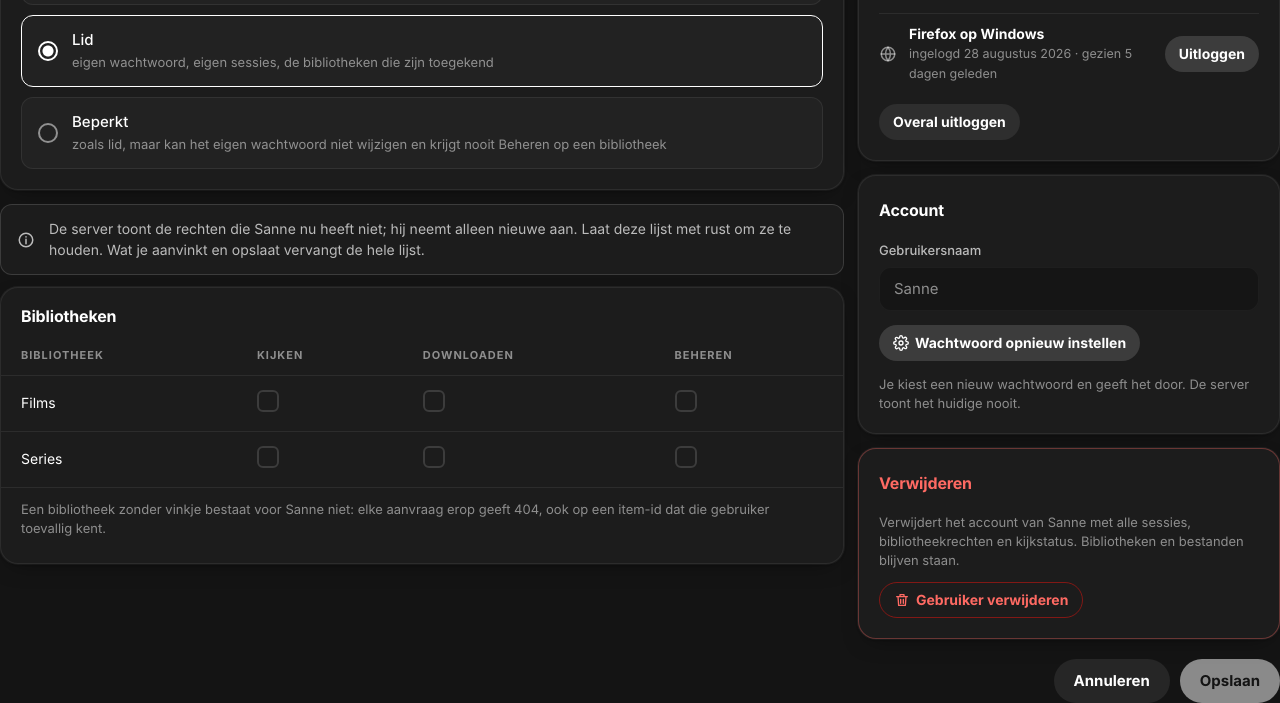
verwijderen › toont de weigering van de server en blijft op de pagina
(page scrolled)
Click the button "Gebruiker verwijderen". click: coordinates (981, 600)
box: 879,582 -> 1083,618
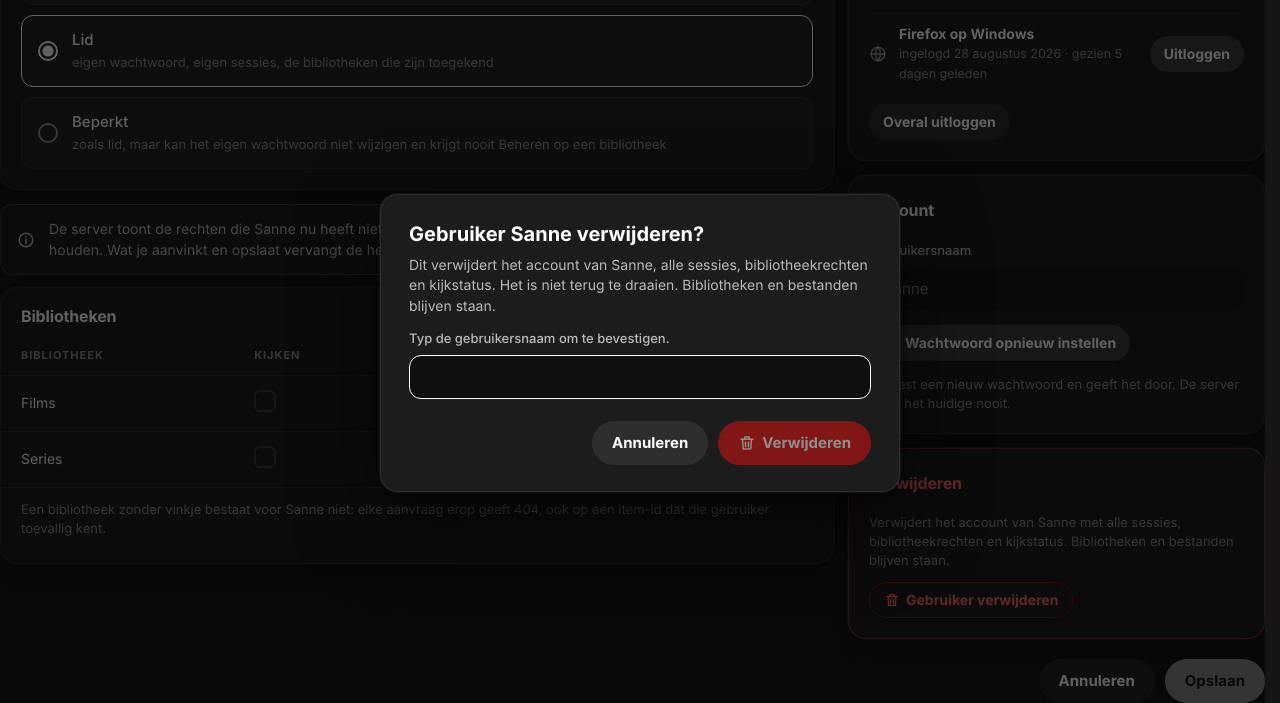
Type "Sanne" into the field. click: coordinates (640, 377)
box: 409,355 -> 871,399
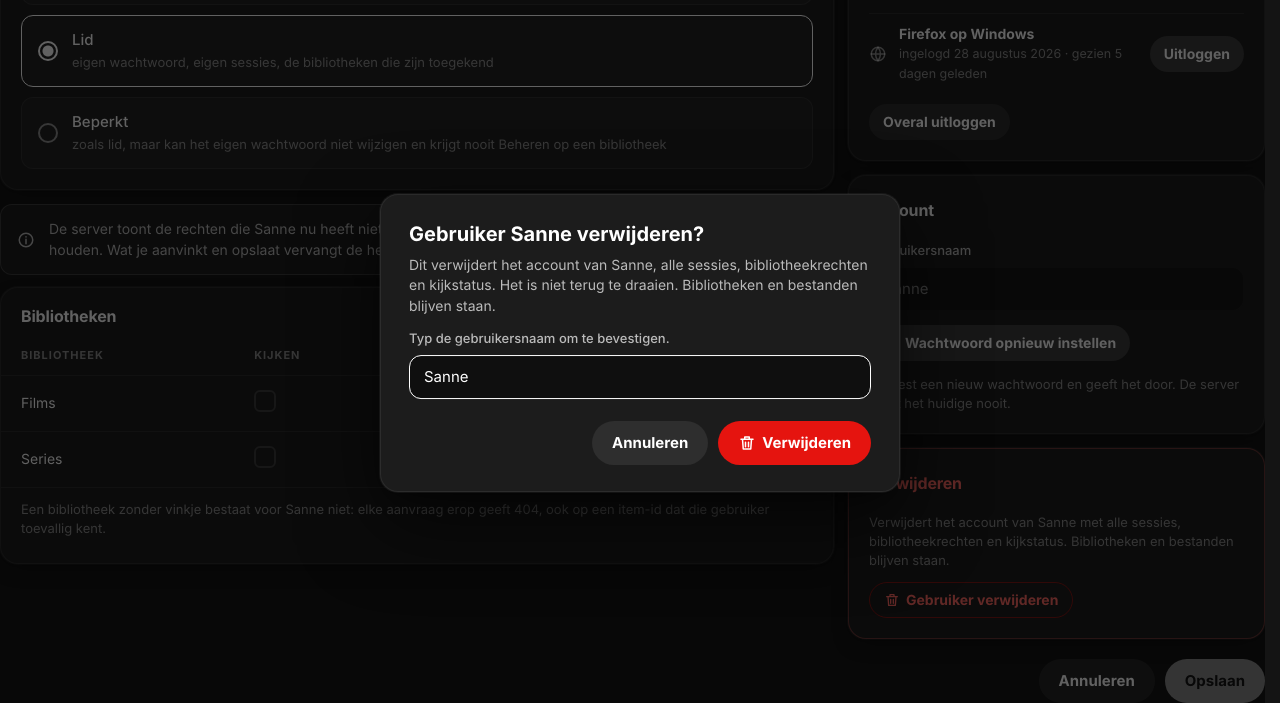
Click the button "Verwijderen". click: coordinates (795, 443)
box: 718,421 -> 871,465
(page scrolled)
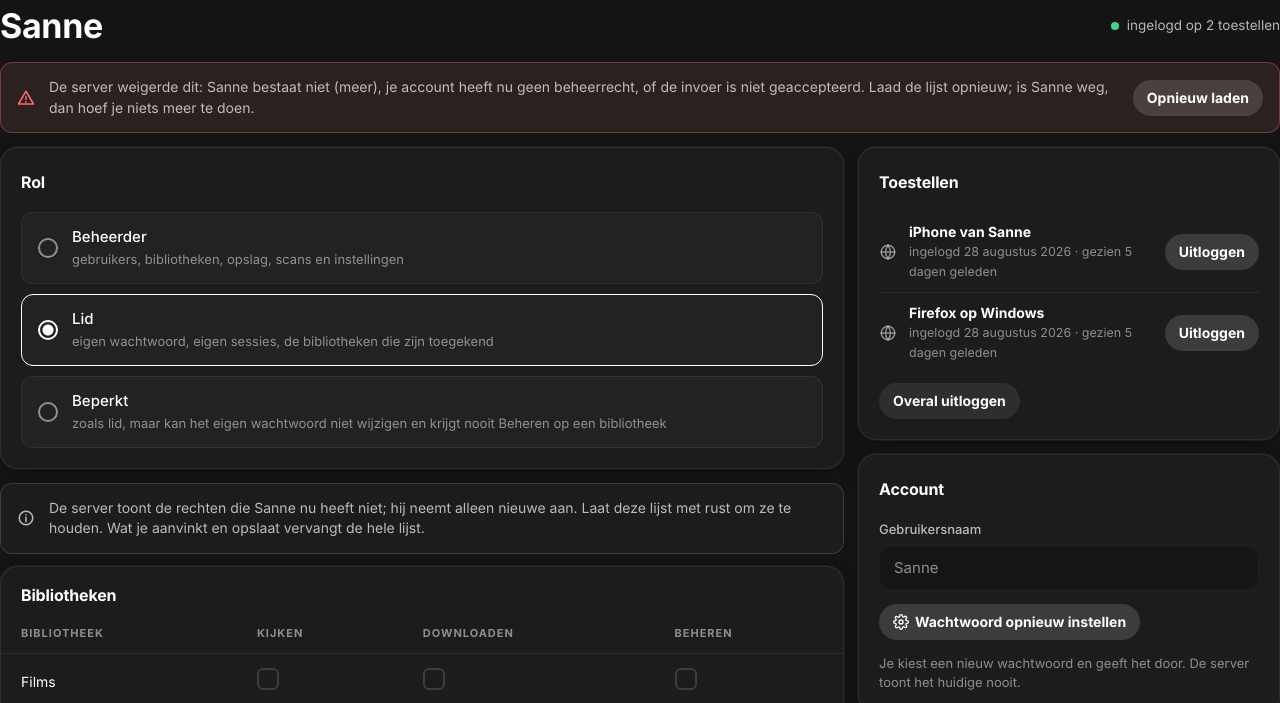
Expected: the heading "Sanne" is shown, 0,7 -> 103,44
Now the message shows "bestaat niet (meer)", box 49,78 -> 1109,116
